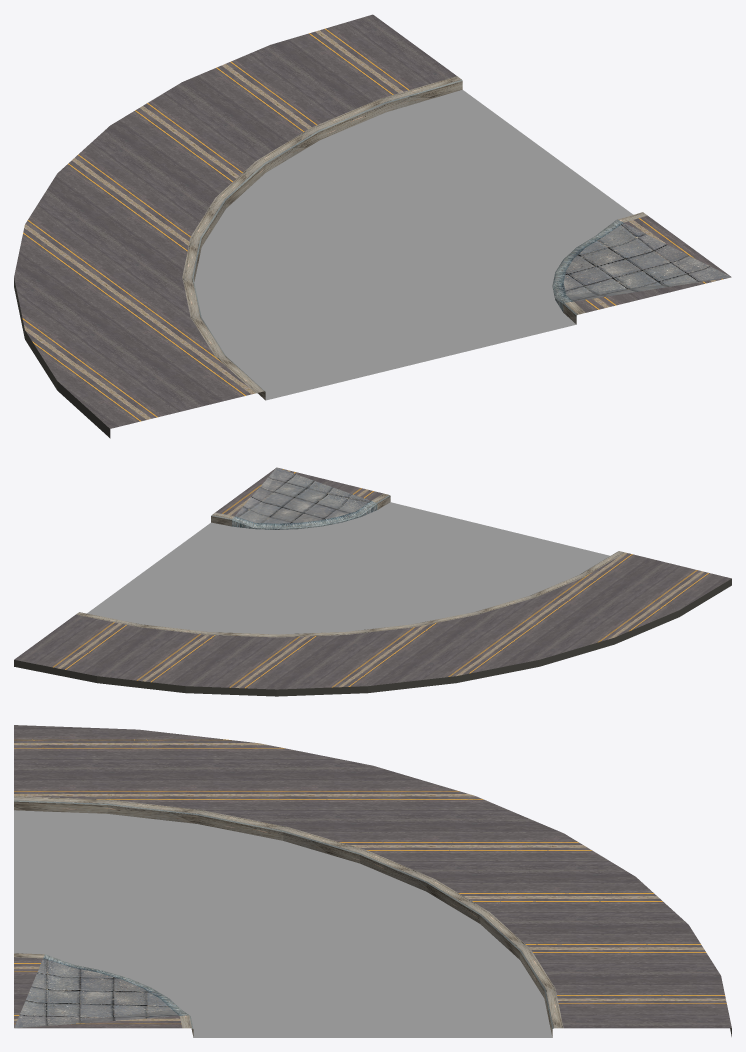
The model's file is road_curve.FBX.
3 renders of one model, top to bottom at view 1: azimuth 30°, elevation 25°; view 2: azimuth 150°, elevation 25°; view 3: azimuth 270°, elevation 25°, orthographic. The views are drawn at different scales.
Visible parts, largest first — view 1: Plane_024; view 2: Plane_024; view 3: Plane_024.
Boxes of the visible parts, left/top/right/bottom form: Plane_024: left=14, top=14, right=731, bottom=438; Plane_024: left=14, top=467, right=731, bottom=696; Plane_024: left=14, top=725, right=731, bottom=1037.
Bounding box in the file's own units: 0.24 × 0.00352 × 0.24.
